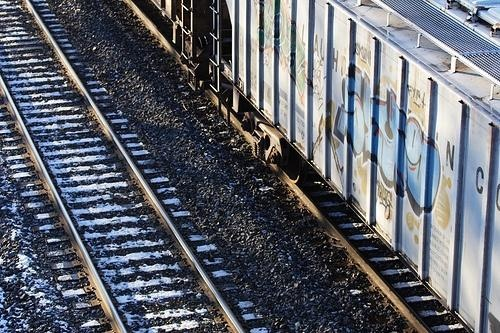train: (148, 1, 500, 332)
